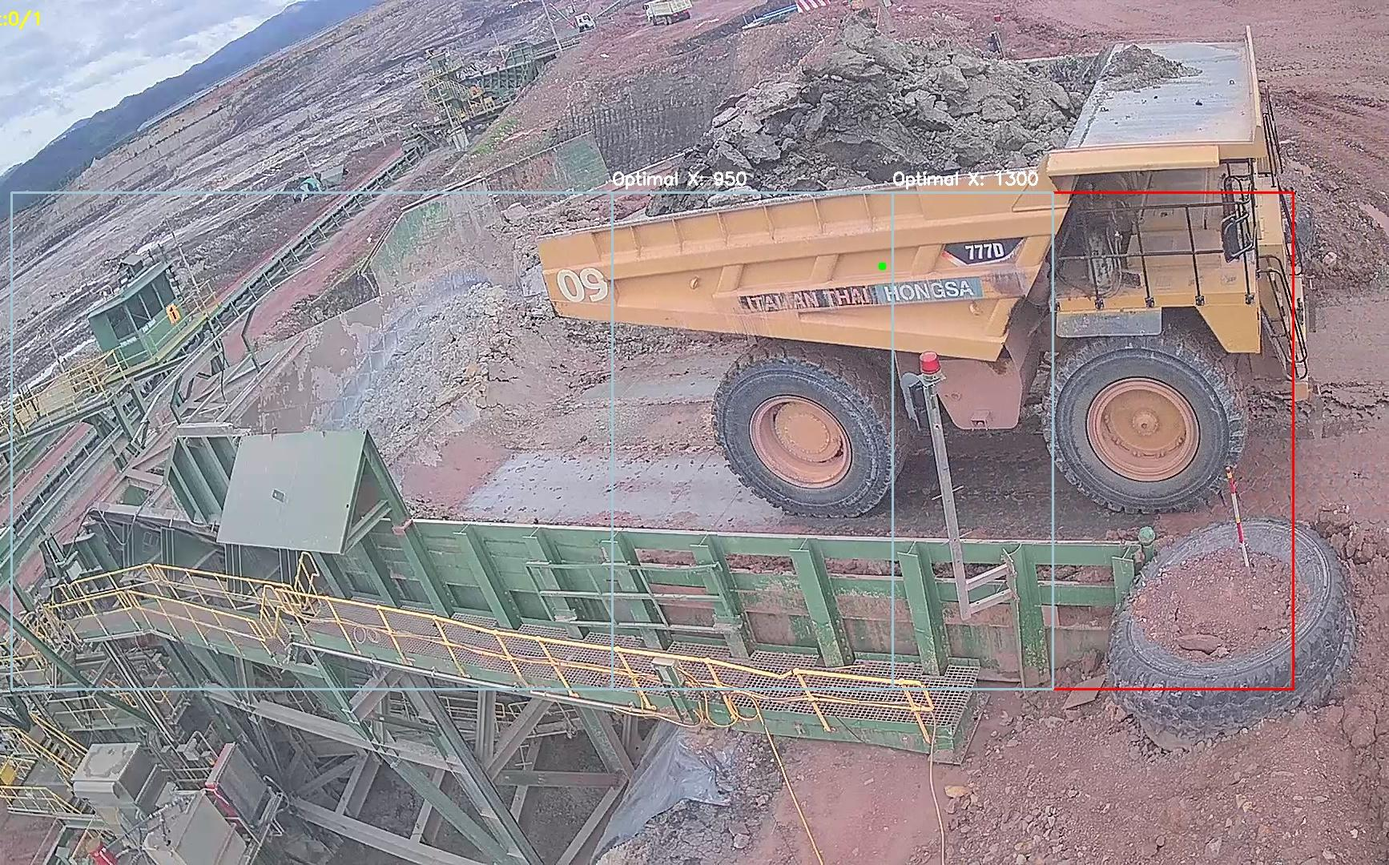company: (734, 272, 984, 312)
full_load: (700, 15, 1054, 211)
mining_truck: (531, 1, 1316, 518)
tail_number: (548, 261, 615, 311)
truck_size: (940, 229, 1029, 268)
